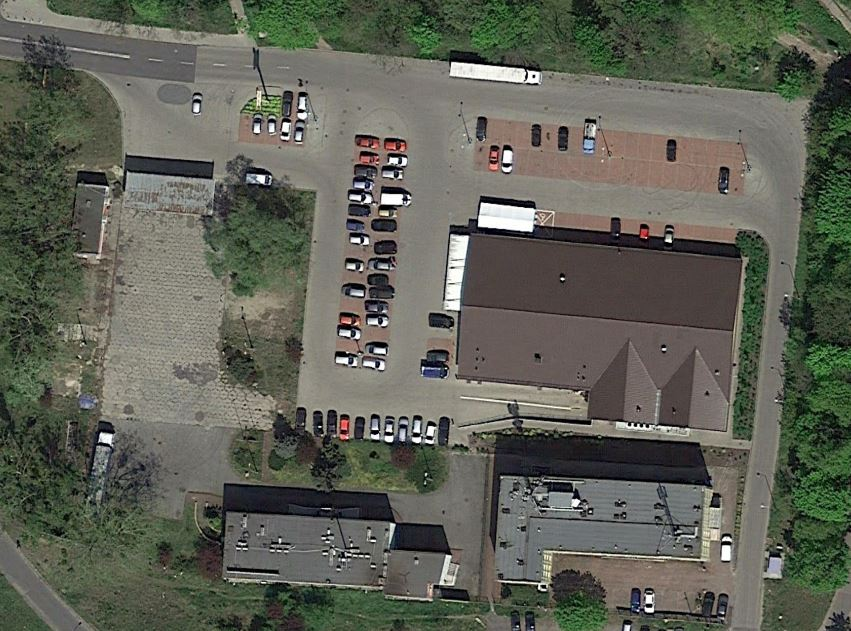block of flats: (481, 468, 737, 589), (207, 494, 462, 611)
shopping_center: (426, 191, 749, 447)
